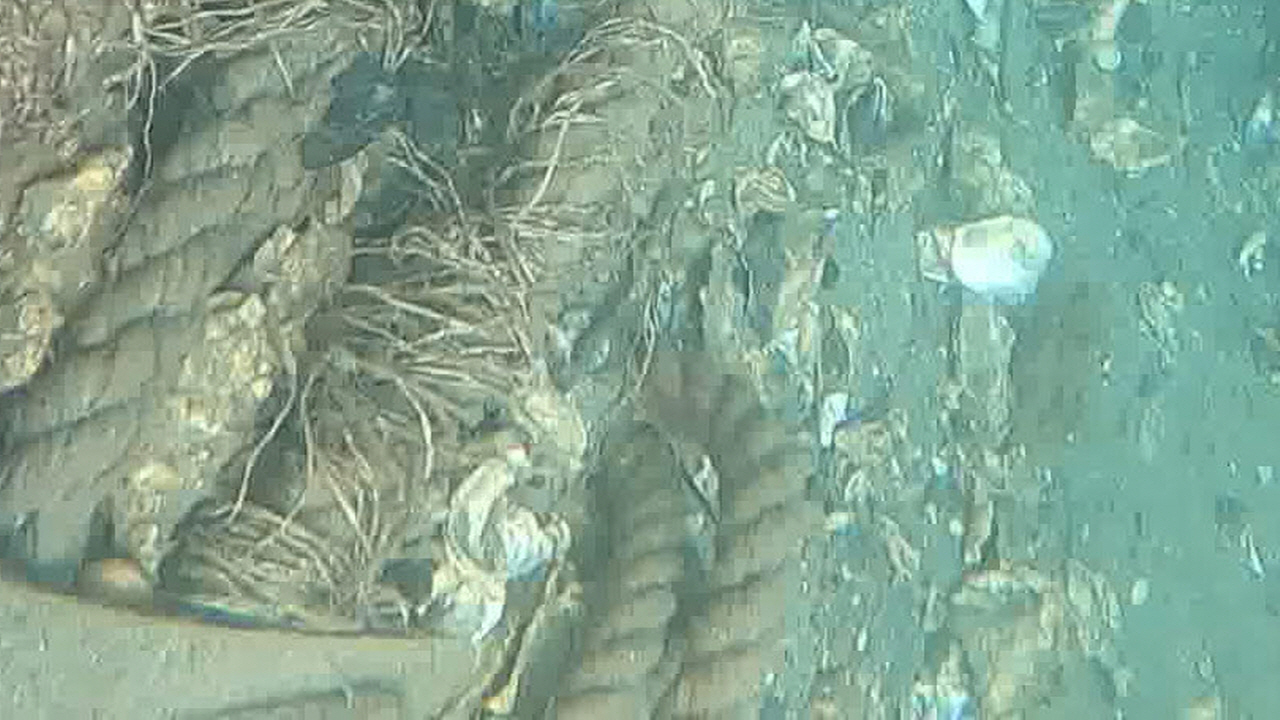bundle of ropes: (0, 2, 807, 720)
